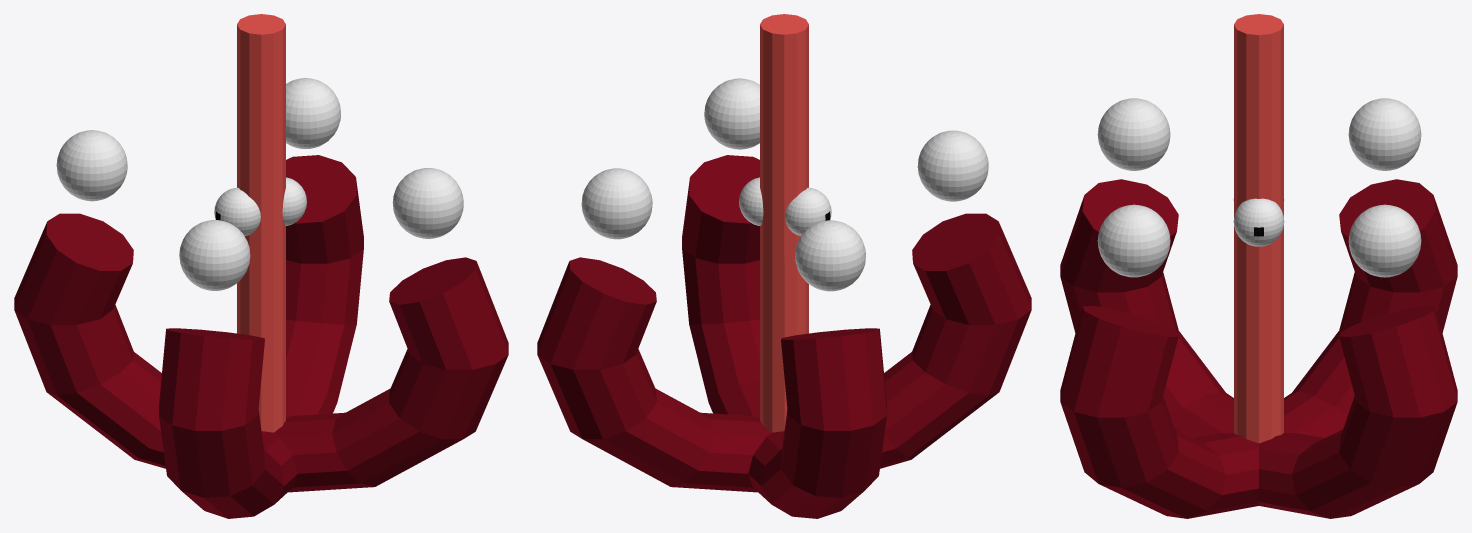
Rendered from Candleflambe.fbx.
The picture shows the model from 3 angles, left to right: view 1: azimuth 30°, elevation 25°; view 2: azimuth 150°, elevation 25°; view 3: azimuth 270°, elevation 25°; orthographic projection. The views are drawn at different scales.
Visible parts, largest first — view 1: Torus.002, Torus.001, Cylinder, Sphere.002, Sphere, Sphere.003, Sphere.001, Sphere.004, Sphere.005; view 2: Torus.001, Torus.002, Cylinder, Sphere.001, Sphere.003, Sphere, Sphere.002, Sphere.004, Sphere.005; view 3: Torus.001, Torus.002, Cylinder, Sphere.001, Sphere.003, Sphere.002, Sphere, Sphere.005.
Part boxes in pixels (box(x1,y1,x2,y2)): Torus.002: box(14, 213, 508, 492); Torus.001: box(159, 155, 363, 518); Cylinder: box(237, 14, 285, 432); Sphere.002: box(392, 168, 463, 238); Sphere: box(56, 130, 127, 201); Sphere.003: box(179, 220, 250, 290); Sphere.001: box(286, 78, 340, 148); Sphere.004: box(214, 187, 260, 236); Sphere.005: box(282, 177, 306, 225); Torus.001: box(537, 213, 1031, 492); Torus.002: box(682, 155, 886, 518); Cylinder: box(760, 14, 808, 432); Sphere.001: box(581, 168, 652, 239); Sphere.003: box(917, 130, 988, 201); Sphere: box(795, 220, 865, 291); Sphere.002: box(704, 78, 759, 149); Sphere.004: box(785, 187, 831, 235); Sphere.005: box(739, 177, 763, 225); Torus.001: box(1060, 179, 1457, 518); Torus.002: box(1060, 179, 1457, 518); Cylinder: box(1234, 14, 1283, 443); Sphere.001: box(1348, 204, 1421, 277); Sphere.003: box(1097, 98, 1170, 170); Sphere.002: box(1097, 204, 1170, 277); Sphere: box(1348, 98, 1421, 170); Sphere.005: box(1233, 198, 1284, 246).
Size of the model in its own units: 190 by 250 by 190.
